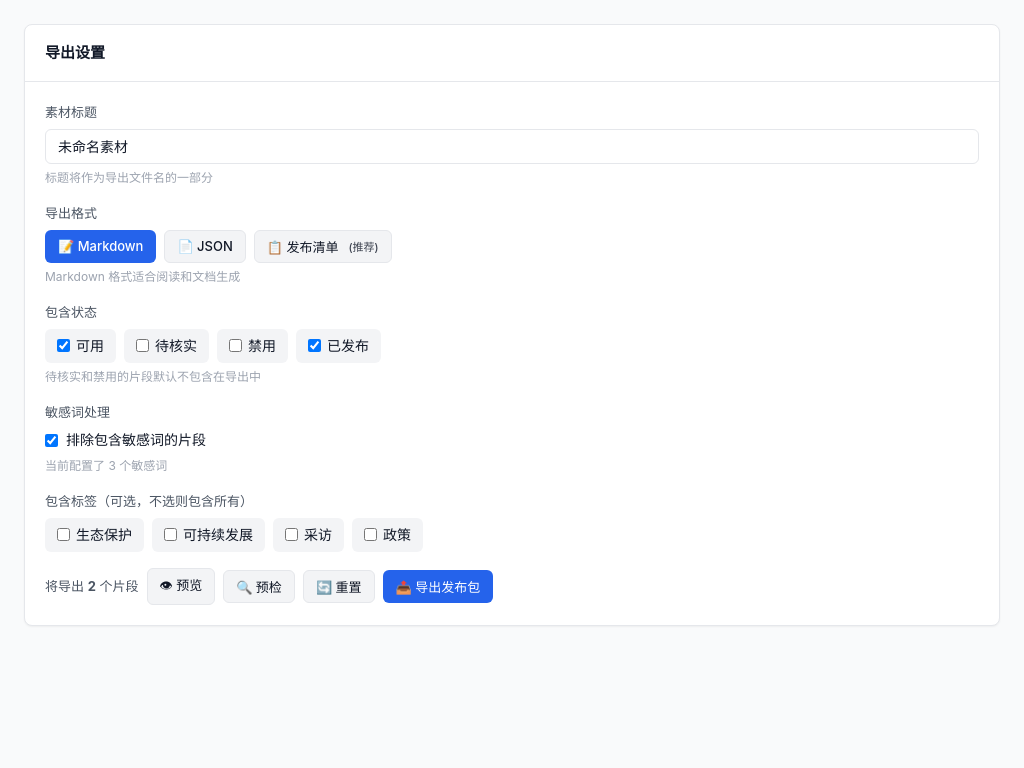
Scenario: ExportView 界面交互测试 › 2. 格式切换测试 › 2.3 显示对应格式的提示信息
Click the button with test id "export-format-manifest" at (323, 246), box [254,230,392,263]
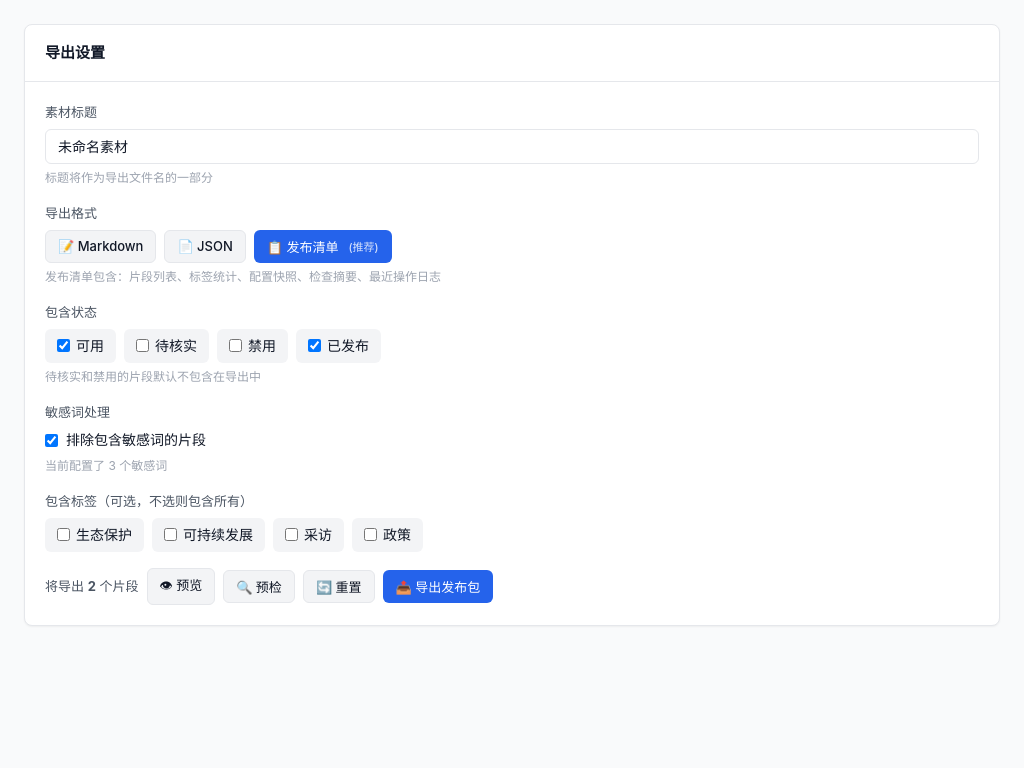
Now the text "发布清单包含：片段列表、标签统计、配置快照、检查摘要、最近操作日志" is shown, box [45,269,441,284]
